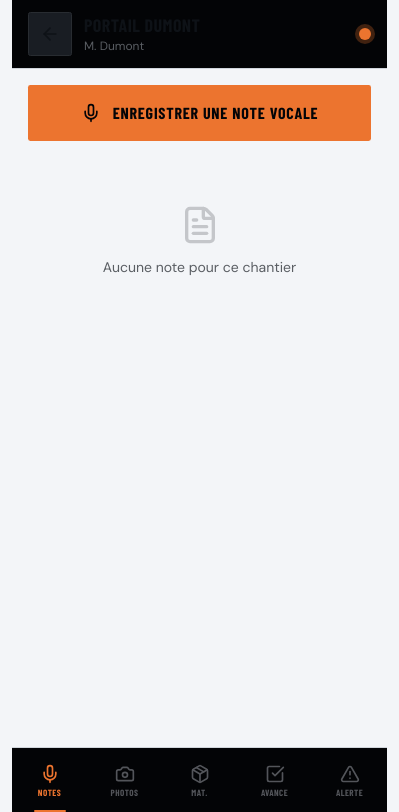
Test: Interface terrain (ouvrier) — viewport 375px › Navigation par onglets (page projet) › bascule vers Photos en 1 tap
What coordinates should you click on to do the following:
click the button with test id "tab-photos"
I would click on:
 (125, 780)
Its box is [87,748,162,811].
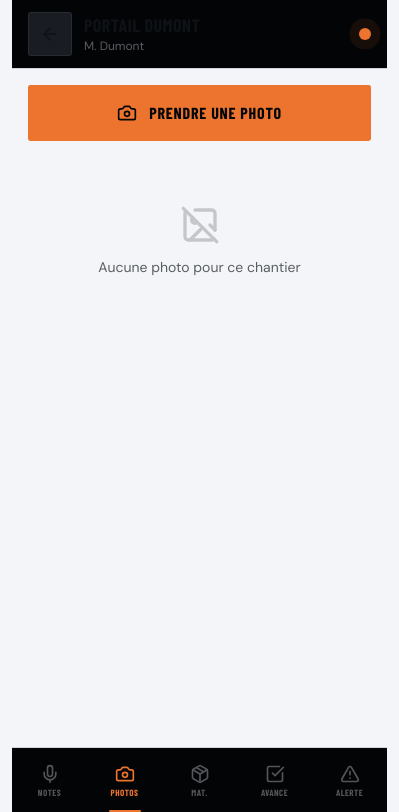
expect the button with test id "photo-button" is shown: met, box [28,85,371,141]
